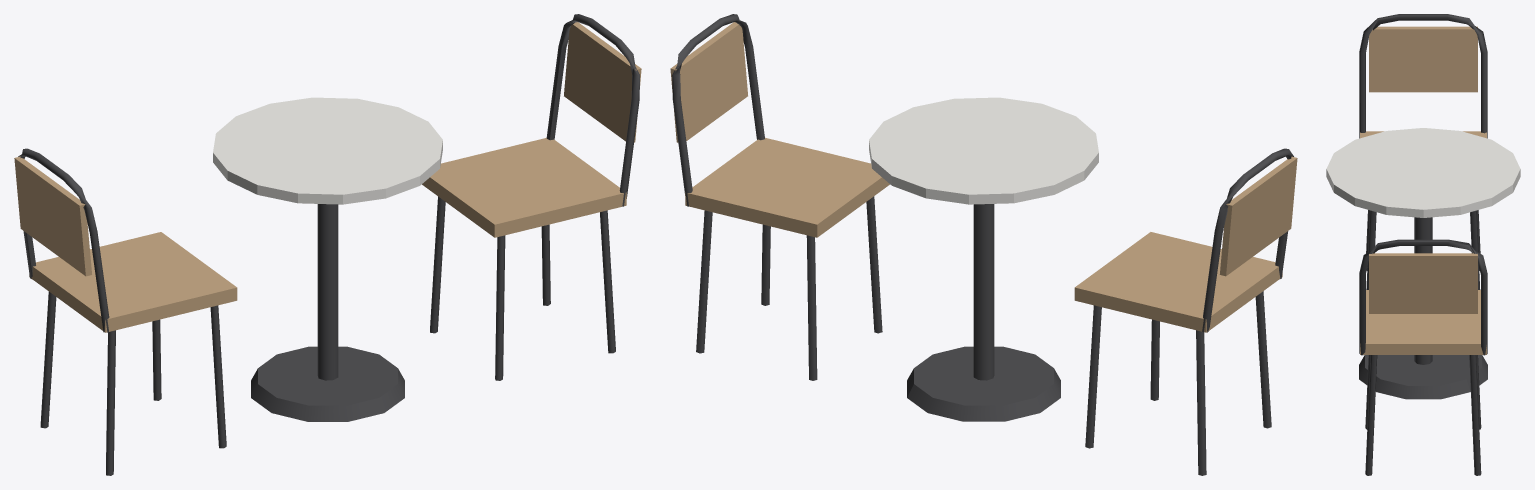
Rendered from cafe-set.glb.
3 renders of one model, left to right at view 1: azimuth 30°, elevation 25°; view 2: azimuth 150°, elevation 25°; view 3: azimuth 270°, elevation 25°, orthographic. The views are drawn at different scales.
Parts seen in each view (by area): view 1: cafe-set; view 2: cafe-set; view 3: cafe-set.
Boxes of the visible parts, x1,y1,x2,y2 form: cafe-set: [14, 14, 641, 475]; cafe-set: [670, 14, 1297, 475]; cafe-set: [1326, 14, 1520, 475].
Bounding box in the file's own units: 1.79 × 0.8914 × 0.6401.
